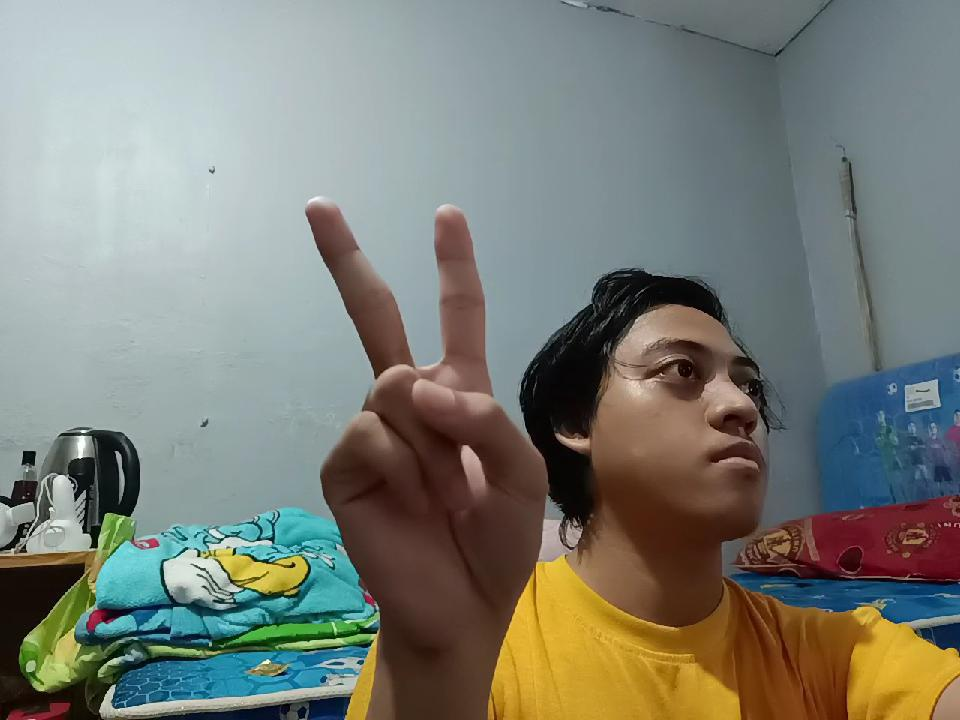scissors: (323, 198, 545, 644)
